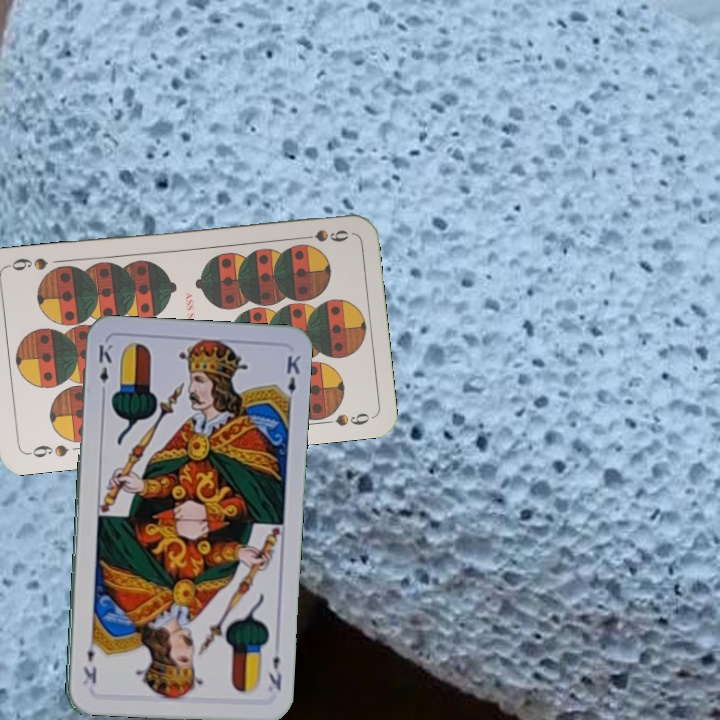EK: (95, 340, 115, 399), (264, 639, 284, 693)
S9: (293, 226, 352, 245), (24, 440, 71, 460)
